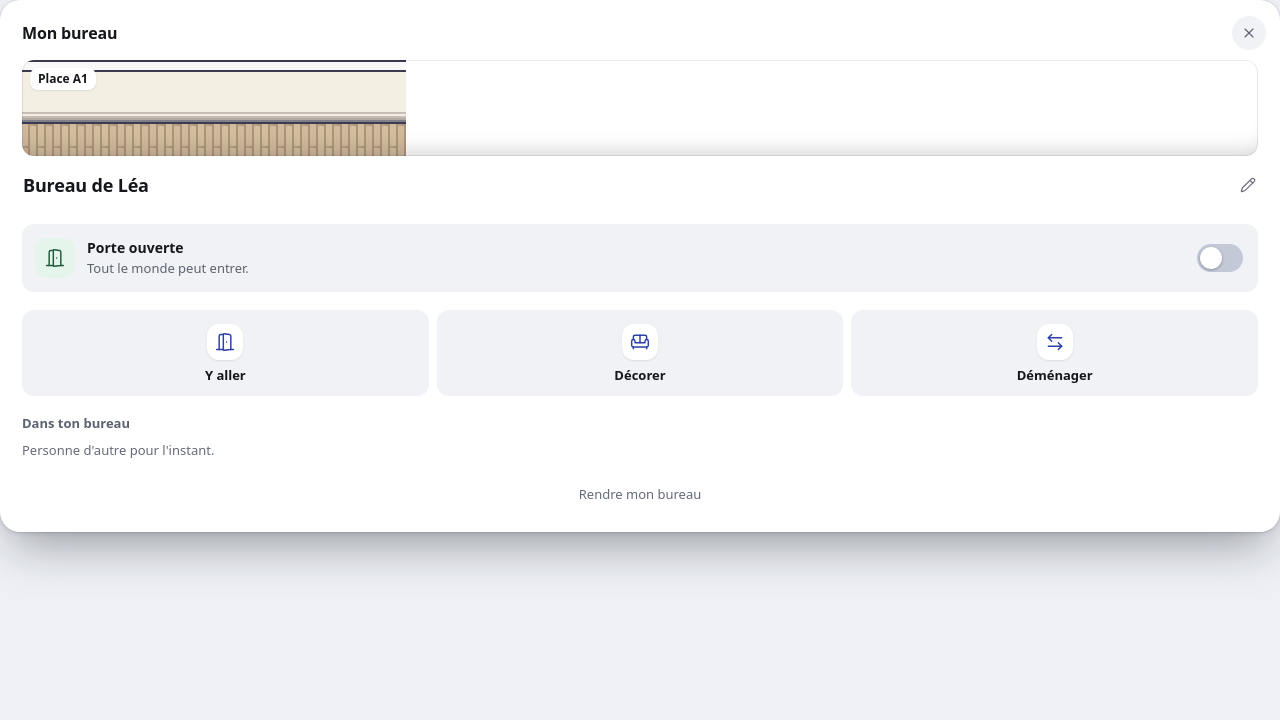
Scenario: avec un bureau › le nom, sur place : proposé par défaut en indice, borné à 40 caractères, enregistré avec Entrée (en quittant le champ)
Quitter le champ sans rien changer n'envoie rien.
Click the field named "Nom du bureau". click: (640, 185)
box: [12,164,1268,206]
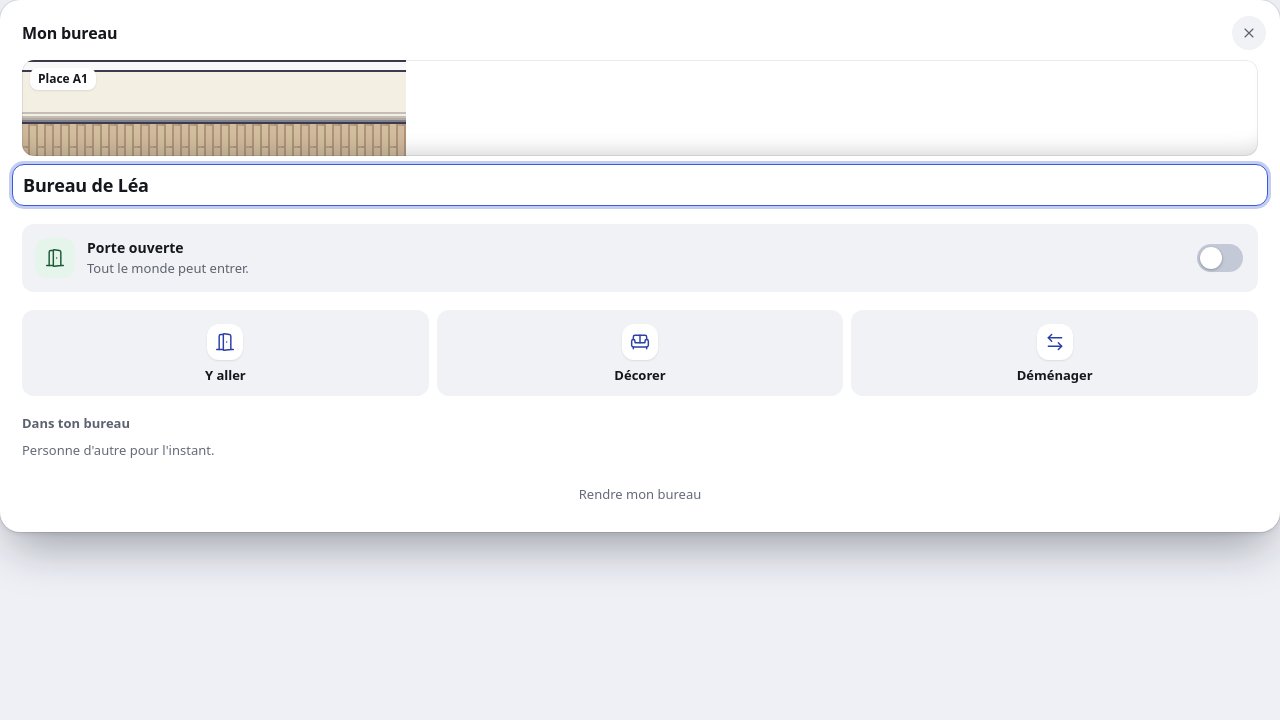
Press Tab
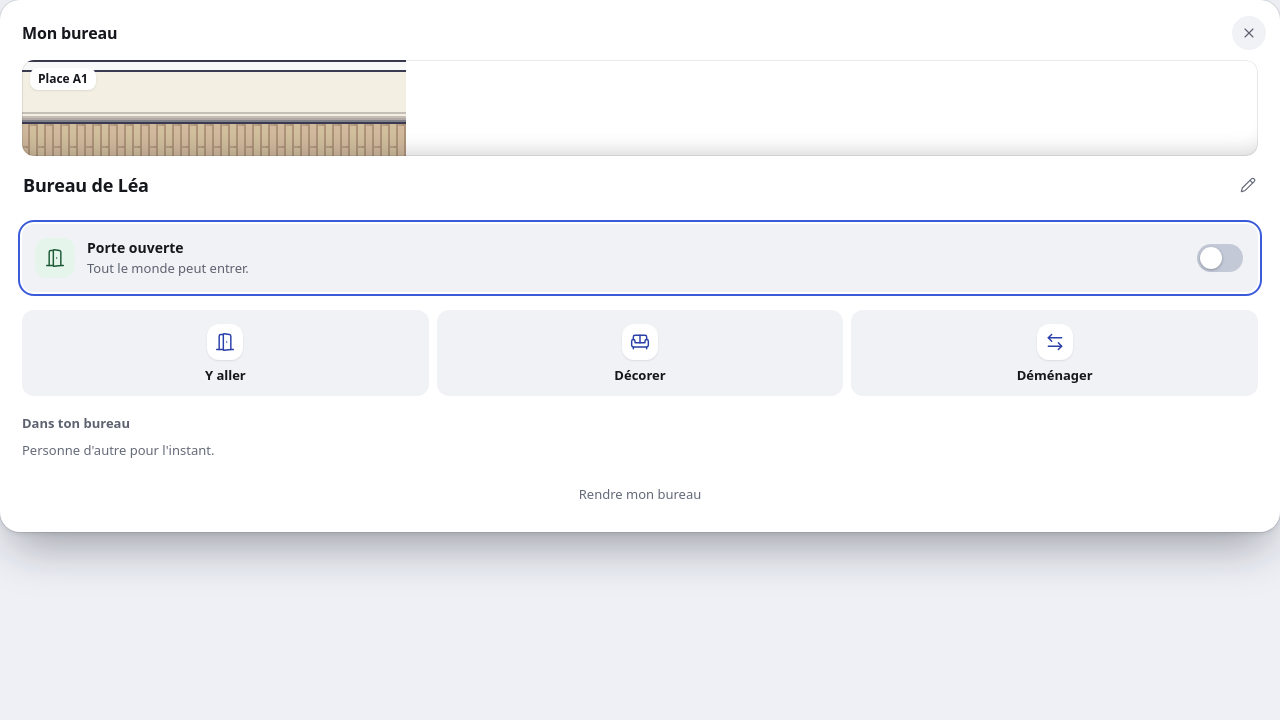
Type "Le labo" into the field named "Nom du bureau". click: (640, 185)
box: [12,164,1268,206]
Then press Enter
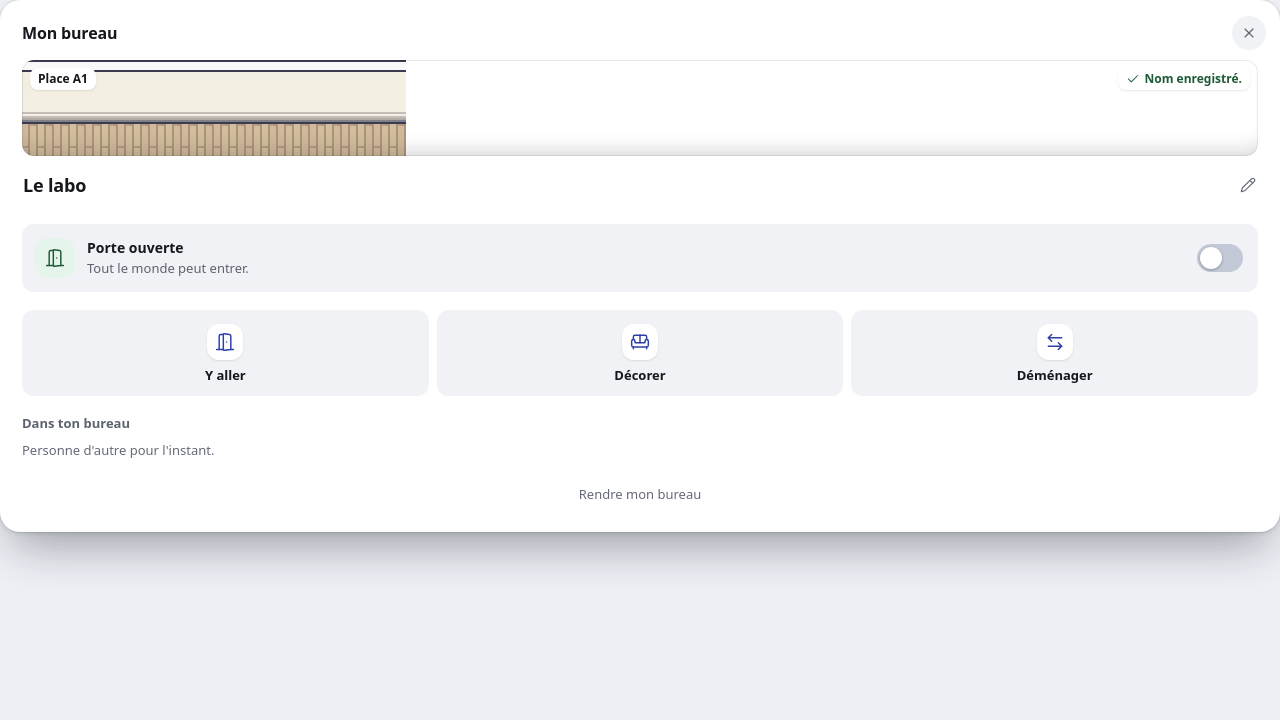
Expected: the message reads "Nom enregistré.", [1144,70,1242,87]
